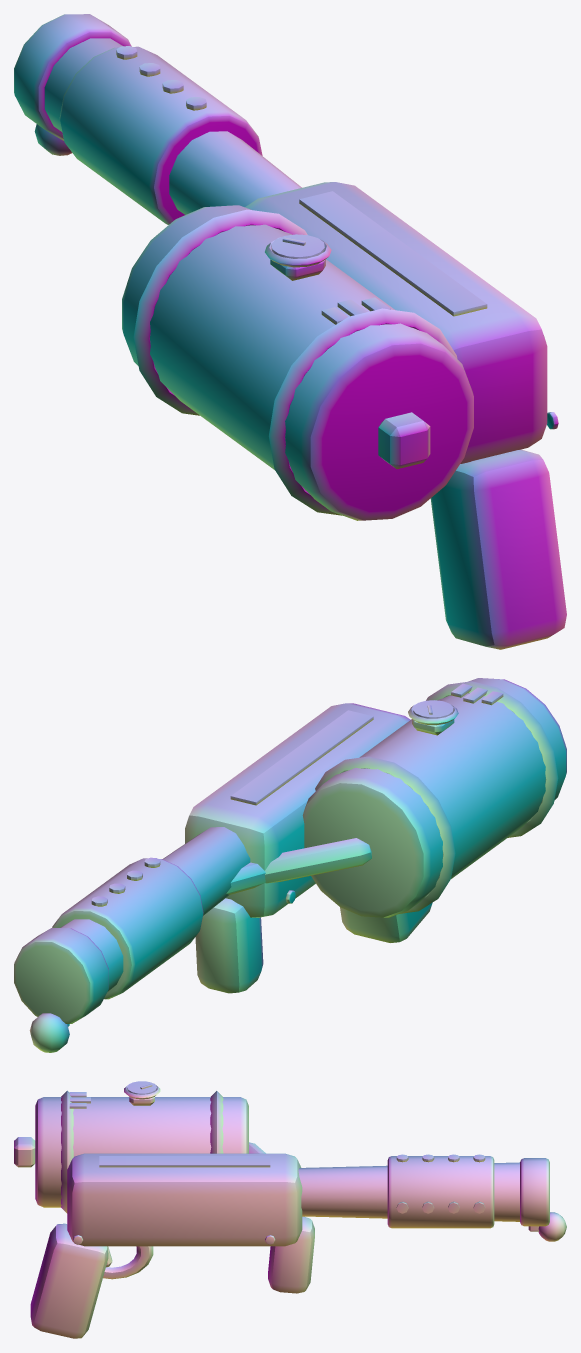
The model's file is wpn_flame.glb.
3 views of the same model, one above another, from view 1: azimuth 30°, elevation 25°; view 2: azimuth 150°, elevation 25°; view 3: azimuth 270°, elevation 25° (orthographic). The views are drawn at different scales.
Parts seen in each view (by area): view 1: wpn_flame_mesh; view 2: wpn_flame_mesh; view 3: wpn_flame_mesh.
Boxes of the visible parts, x1=… form: wpn_flame_mesh: x1=14, y1=14, x2=566, y2=649; wpn_flame_mesh: x1=14, y1=678, x2=566, y2=1052; wpn_flame_mesh: x1=14, y1=1081, x2=566, y2=1338.
Bounding box in the file's own units: 0.0884 × 0.1084 × 0.259.
